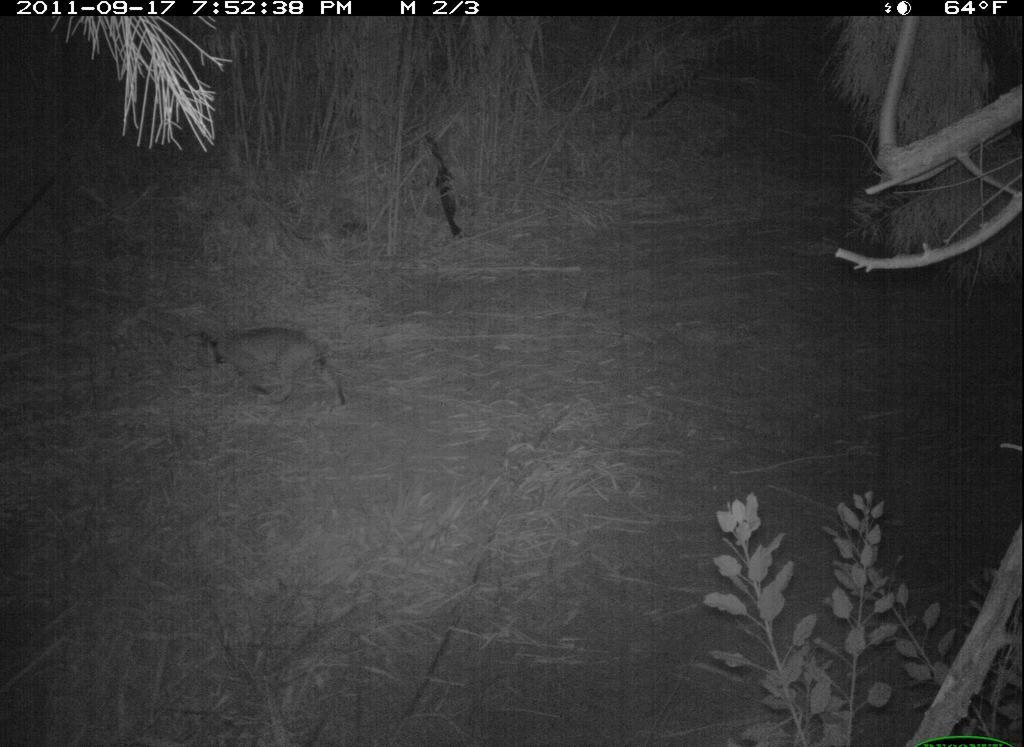bobcat: (190, 321, 353, 424)
